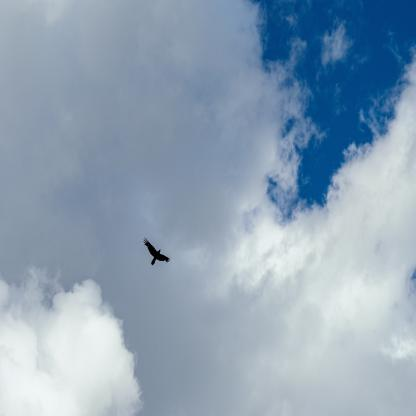bird: (143, 237, 171, 266)
